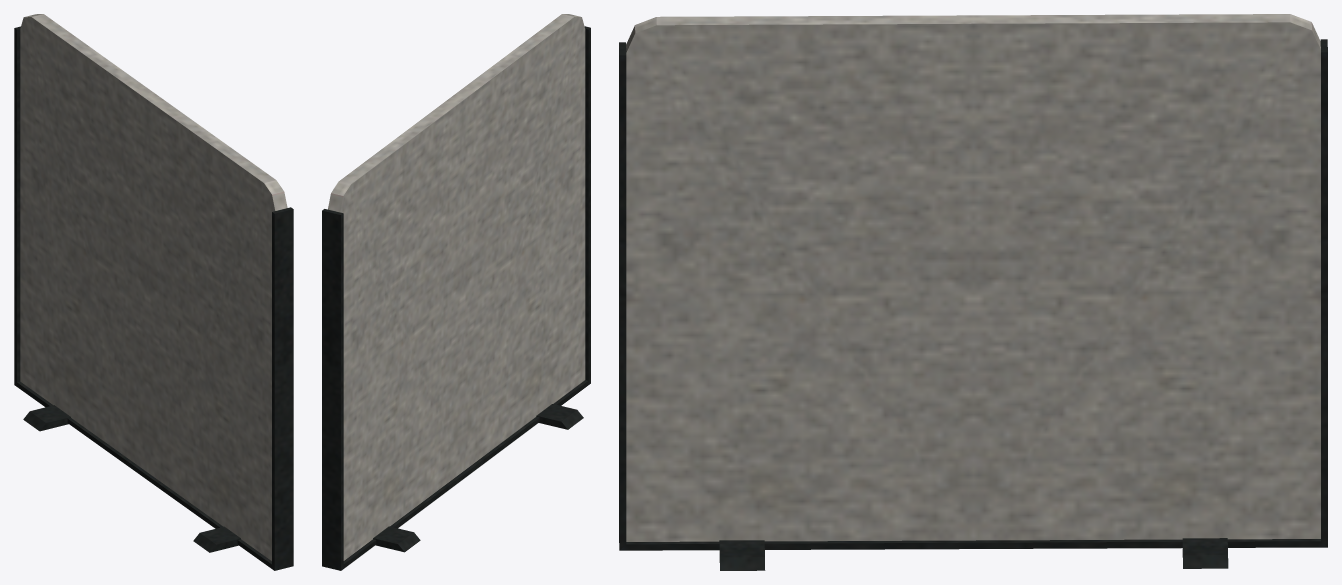
Rendered from divider_black_03.fbx.
3 views of the same model, side by side, from view 1: azimuth 30°, elevation 25°; view 2: azimuth 150°, elevation 25°; view 3: azimuth 270°, elevation 25° (orthographic). The views are drawn at different scales.
Visible parts, largest first — view 1: divider_black8; view 2: divider_black8; view 3: divider_black8.
Boxes of the visible parts, x1,y1,x2,y2 form: divider_black8: (14, 14, 293, 570); divider_black8: (322, 14, 590, 570); divider_black8: (619, 14, 1327, 570).
Bounding box in the file's own units: 54.63 × 250 × 306.
